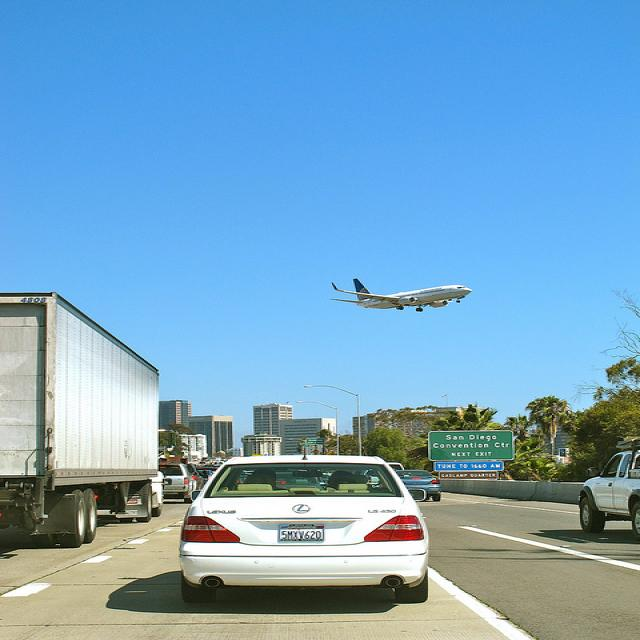airplane: (324, 274, 477, 314)
